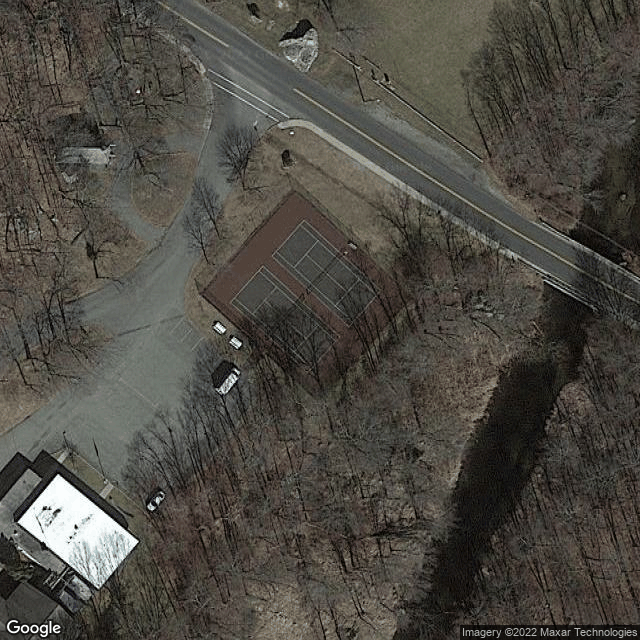Court: (229, 265, 341, 375), (271, 220, 383, 328)
